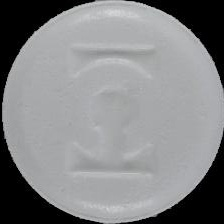63459-544: (0, 0, 224, 224)
